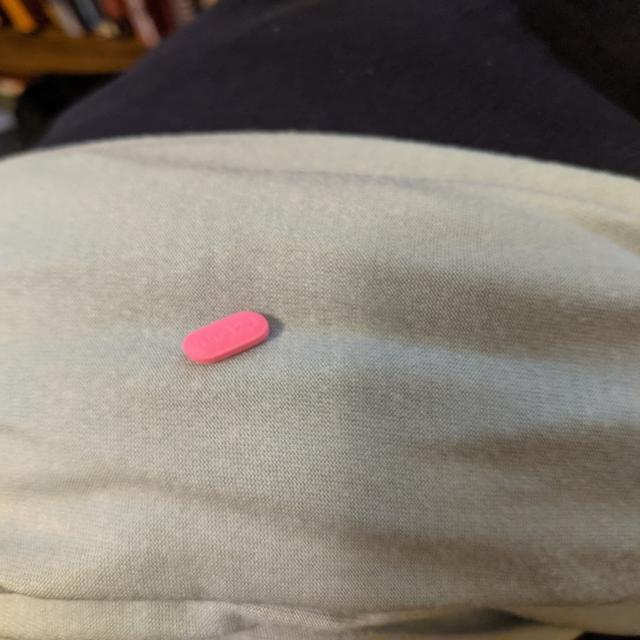non-organic waste: (182, 310, 271, 365)
